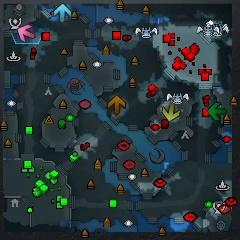x1: (18, 24, 36, 42)
x2: (162, 103, 181, 121)
x3: (54, 4, 71, 22)
x4: (209, 102, 226, 121)
x5: (107, 95, 126, 115)
